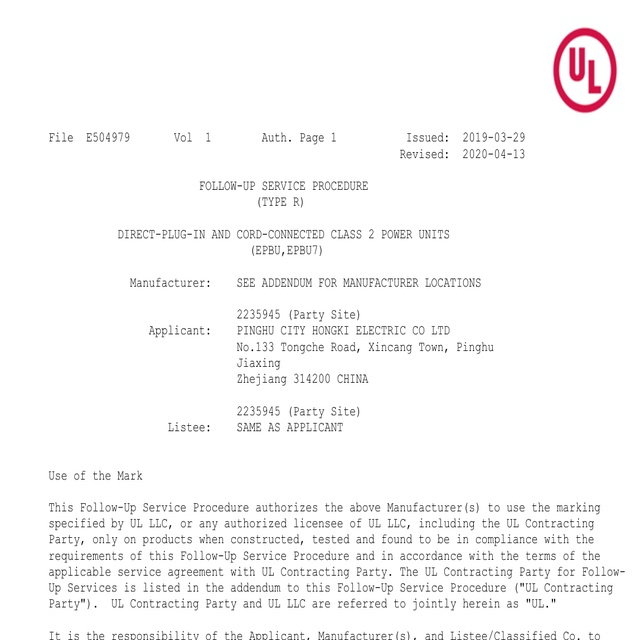ul: (554, 26, 617, 111)
